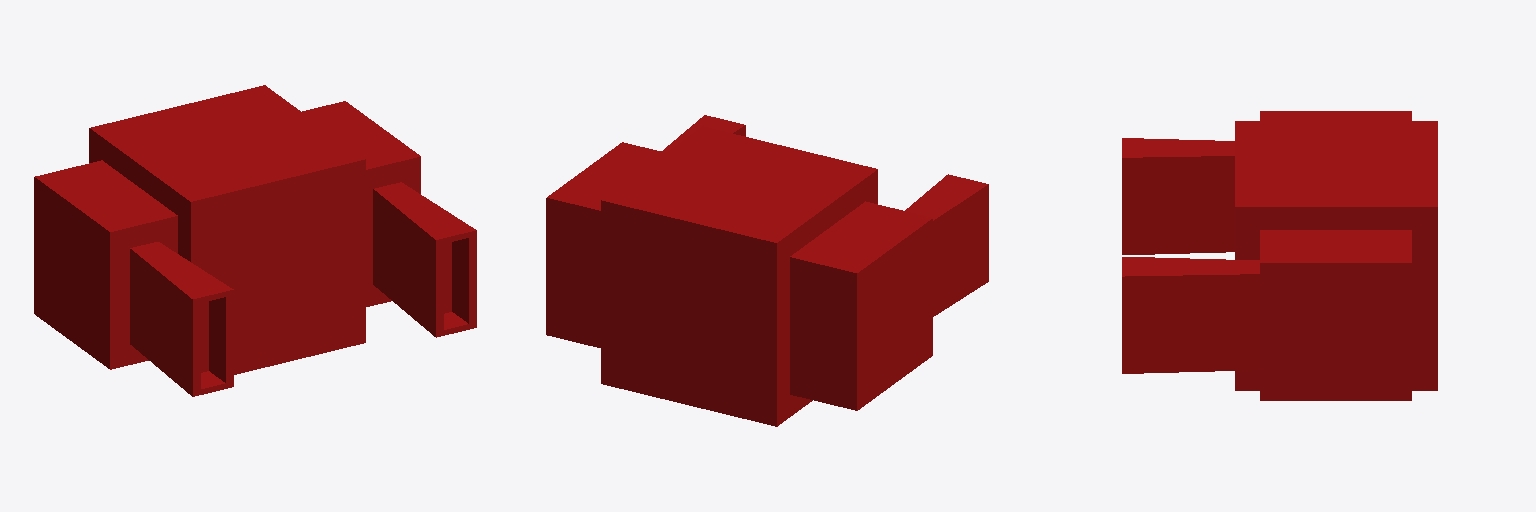
The model's file is FedTurret.obj.
3 renders of one model, left to right at view 1: azimuth 30°, elevation 25°; view 2: azimuth 150°, elevation 25°; view 3: azimuth 270°, elevation 25°, orthographic.
Parts seen in each view (by area): view 1: FedTurret; view 2: FedTurret; view 3: FedTurret.
Boxes of the visible parts, box(x1,y1,x2,y2) form: FedTurret: box(34, 85, 476, 396); FedTurret: box(546, 115, 988, 426); FedTurret: box(1122, 111, 1437, 400).
Size of the model in its own units: 107 by 60.65 by 94.34.